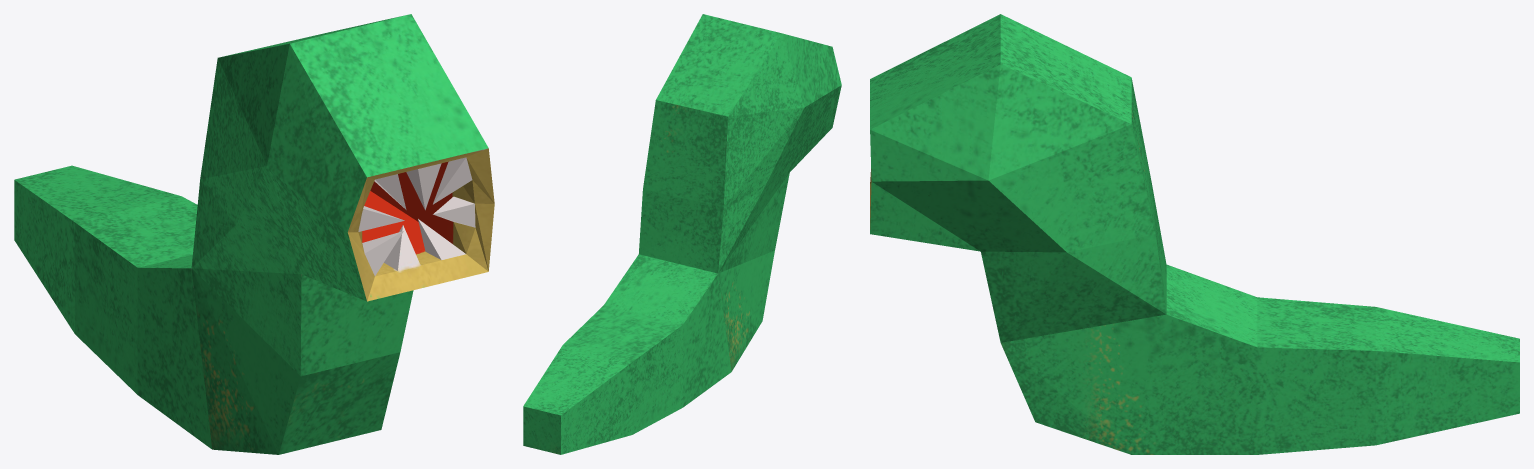
The model's file is monster_01_textured.fbx.
3 views of the same model, side by side, from view 1: azimuth 30°, elevation 25°; view 2: azimuth 150°, elevation 25°; view 3: azimuth 270°, elevation 25° (orthographic). The views are drawn at different scales.
Visible parts, largest first — view 1: pCube1; view 2: pCube1; view 3: pCube1.
Part boxes in pixels (x1,y1,x2,y2): pCube1: (14, 14, 494, 454); pCube1: (523, 14, 841, 454); pCube1: (870, 14, 1519, 454).
Bounding box in the file's own units: 1.58 × 3.63 × 5.48.
